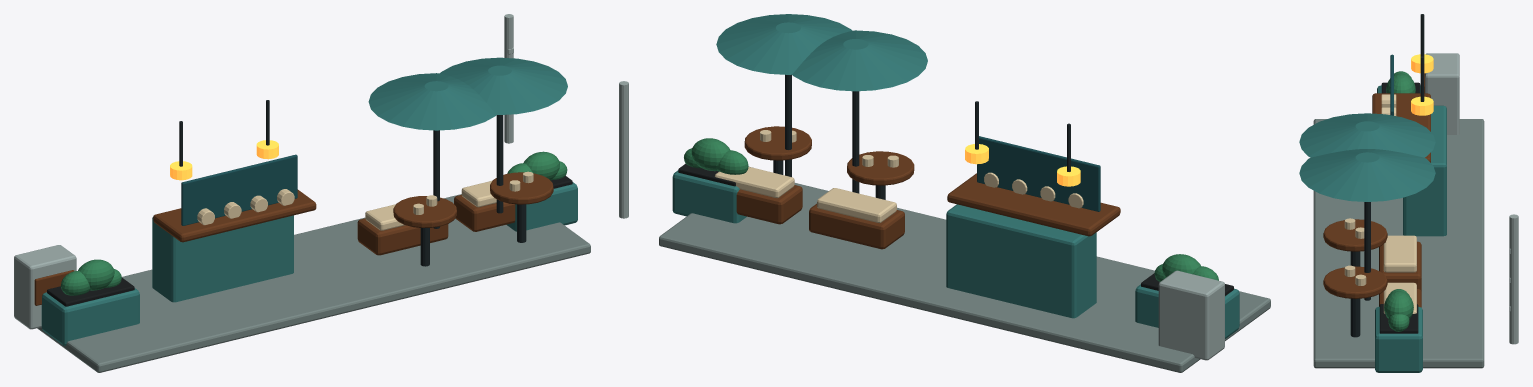
Rendered from teaH.glb.
3 views of the same model, side by side, from view 1: azimuth 30°, elevation 25°; view 2: azimuth 150°, elevation 25°; view 3: azimuth 270°, elevation 25° (orthographic). The views are drawn at different scales.
Visible parts, largest first — view 1: TeaH_TerraceApron, TeaH_HostStationBase, TeaH_BenchBase, TeaH_HostStationGlass, TeaH_DrainSlat, TeaH_BenchCushion, TeaH_PlantCluster, TeaH_DrainChannel, TeaH_CartWheel, TeaH_PendantLamp; view 2: TeaH_HostStationBase, TeaH_TerraceApron, TeaH_BenchBase, TeaH_DrainSlat, TeaH_HostStationGlass, TeaH_BenchCushion, TeaH_PlantCluster, TeaH_DrainChannel, TeaH_PendantLamp, TeaH_CartWheel; view 3: TeaH_TerraceApron, TeaH_HostStationBase, TeaH_BenchBase, TeaH_DrainSlat, TeaH_BenchCushion, TeaH_DrainChannel, TeaH_PlantCluster, TeaH_PendantLamp, TeaH_CartWheel, TeaH_HostStationGlass.
Boxes of the visible parts, x1=… form: TeaH_TerraceApron: x1=37, y1=194, x2=590, y2=372; TeaH_HostStationBase: x1=41, y1=57, x2=577, y2=345; TeaH_BenchBase: x1=34, y1=172, x2=553, y2=305; TeaH_HostStationGlass: x1=181, y1=154, x2=297, y2=225; TeaH_DrainSlat: x1=14, y1=14, x2=513, y2=329; TeaH_BenchCushion: x1=197, y1=171, x2=533, y2=230; TeaH_PlantCluster: x1=61, y1=151, x2=567, y2=295; TeaH_DrainChannel: x1=179, y1=100, x2=526, y2=266; TeaH_CartWheel: x1=47, y1=176, x2=572, y2=306; TeaH_PendantLamp: x1=170, y1=140, x2=278, y2=180; TeaH_HostStationBase: x1=672, y1=14, x2=1239, y2=338; TeaH_TerraceApron: x1=659, y1=183, x2=1270, y2=372; TeaH_BenchBase: x1=736, y1=126, x2=1120, y2=249; TeaH_DrainSlat: x1=619, y1=81, x2=1224, y2=360; TeaH_HostStationGlass: x1=977, y1=136, x2=1100, y2=211; TeaH_BenchCushion: x1=715, y1=130, x2=1083, y2=223; TeaH_PlantCluster: x1=684, y1=138, x2=1218, y2=281; TeaH_DrainChannel: x1=773, y1=74, x2=1070, y2=199; TeaH_PendantLamp: x1=965, y1=144, x2=1080, y2=186; TeaH_CartWheel: x1=678, y1=163, x2=1233, y2=295; TeaH_TerraceApron: x1=1313, y1=119, x2=1484, y2=368; TeaH_HostStationBase: x1=1299, y1=85, x2=1446, y2=372; TeaH_BenchBase: x1=1323, y1=73, x2=1430, y2=307; TeaH_DrainSlat: x1=1425, y1=53, x2=1518, y2=344; TeaH_BenchCushion: x1=1344, y1=94, x2=1416, y2=313; TeaH_DrainChannel: x1=1350, y1=14, x2=1424, y2=337; TeaH_PlantCluster: x1=1384, y1=71, x2=1415, y2=331; TeaH_PendantLamp: x1=1411, y1=54, x2=1433, y2=115; TeaH_CartWheel: x1=1379, y1=82, x2=1420, y2=333; TeaH_HostStationGlass: x1=1390, y1=54, x2=1393, y2=115.
Size of the model in its own units: 9.13 by 2.97 by 3.28.
